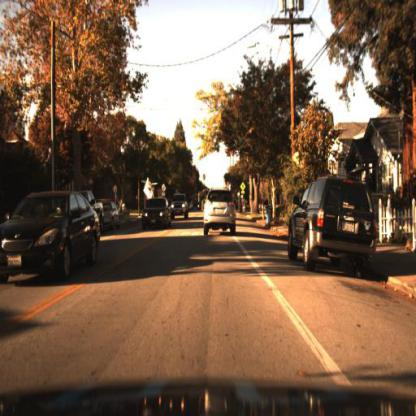car: (1, 190, 103, 289), (286, 172, 377, 282), (285, 172, 378, 269), (203, 189, 237, 237), (141, 195, 172, 235), (98, 199, 125, 231), (170, 194, 191, 222)
